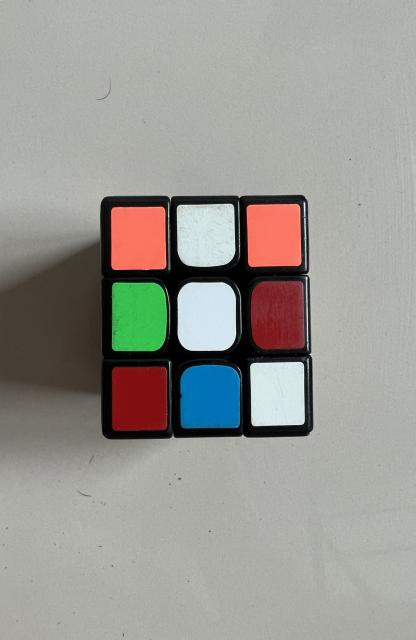Blue: (180, 365, 240, 429)
Green: (112, 282, 167, 351)
Orange: (110, 206, 167, 270), (247, 204, 301, 268)
Red: (250, 281, 304, 350), (112, 366, 168, 431)
White: (178, 282, 236, 351), (177, 204, 235, 268), (250, 361, 306, 426)
